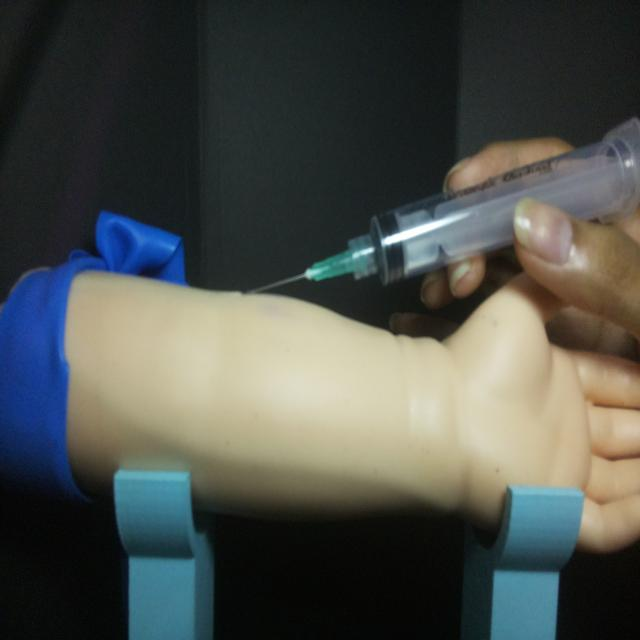18deg: (244, 114, 640, 294)
